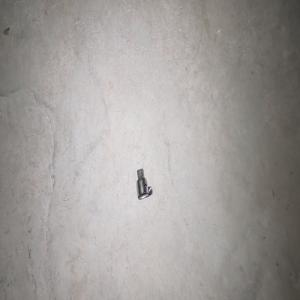MetalPart: (136, 167, 152, 199)
